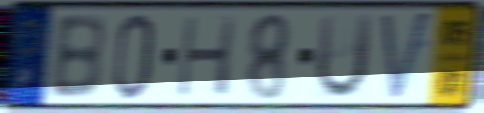0: (109, 10, 159, 103)
8: (242, 11, 293, 103)
B: (47, 11, 109, 102)
H: (175, 14, 240, 100)
U: (313, 10, 376, 102)
V: (377, 8, 435, 106)
